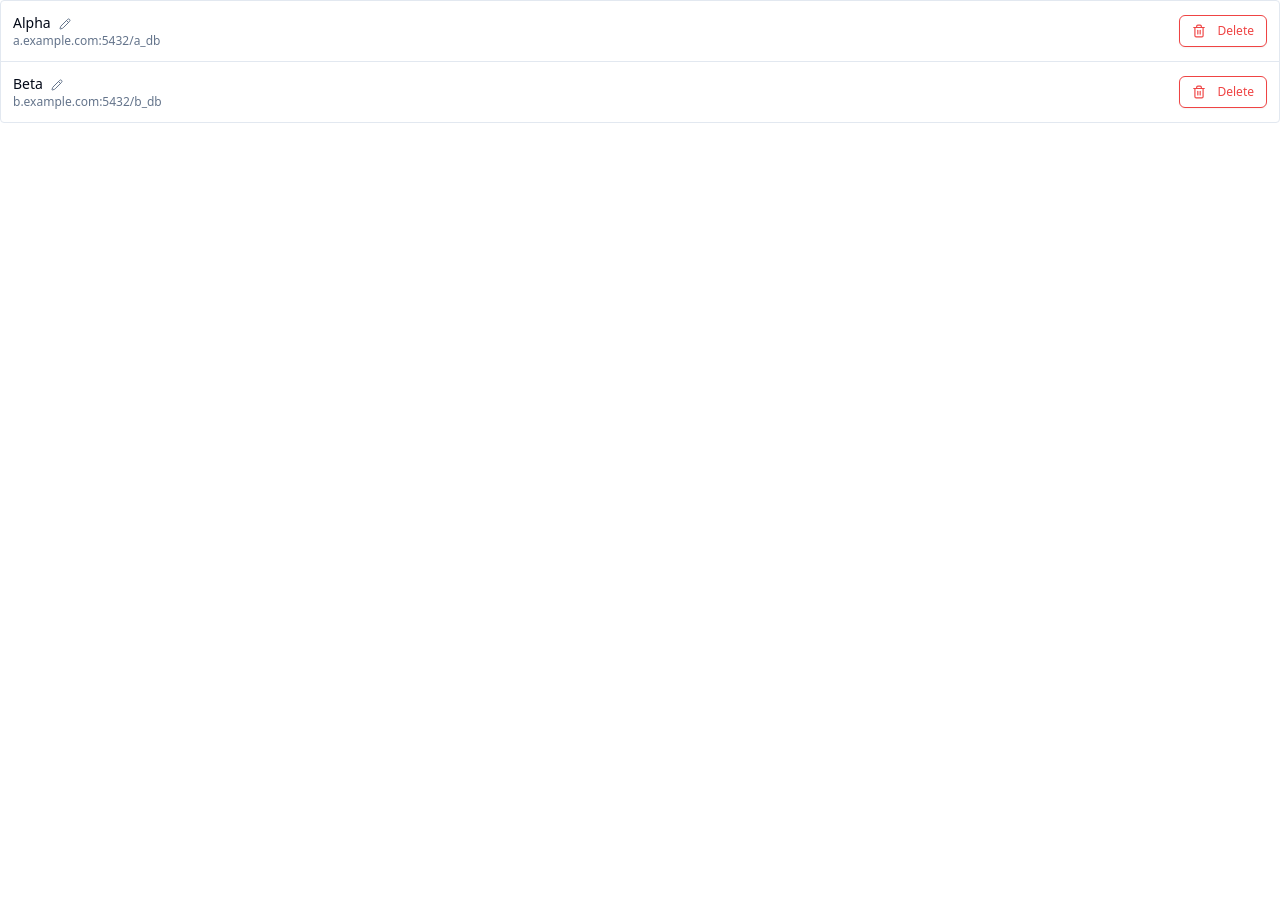
it: cancel from the dialog leaves the store unchanged and closes the dialog
Click the button with aria-label "delete profile alpha".
click(1223, 31)  # box [1178,15,1267,47]
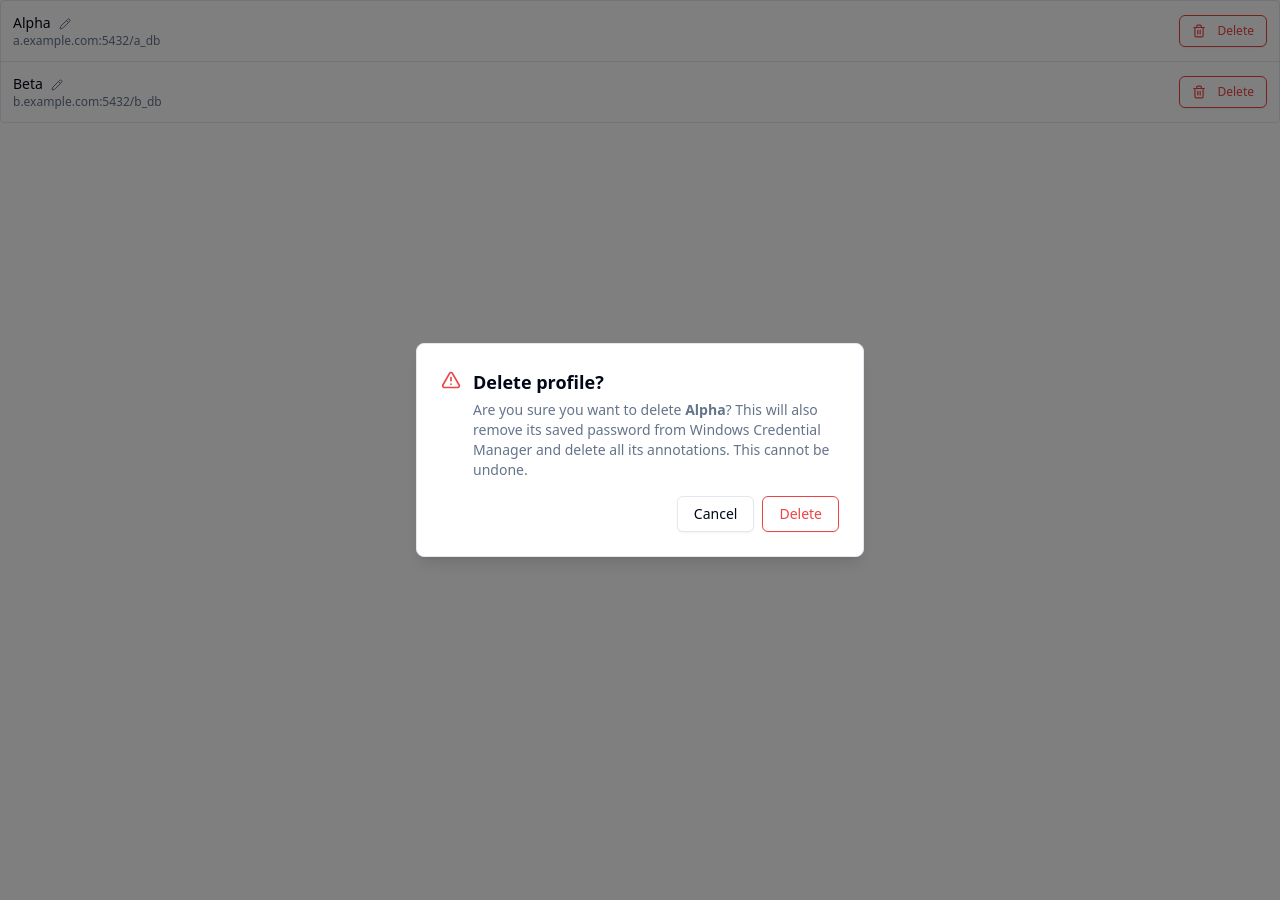
Expected: the dialog is shown
Click the button "Cancel".
click(716, 514)  # box [677,496,754,532]
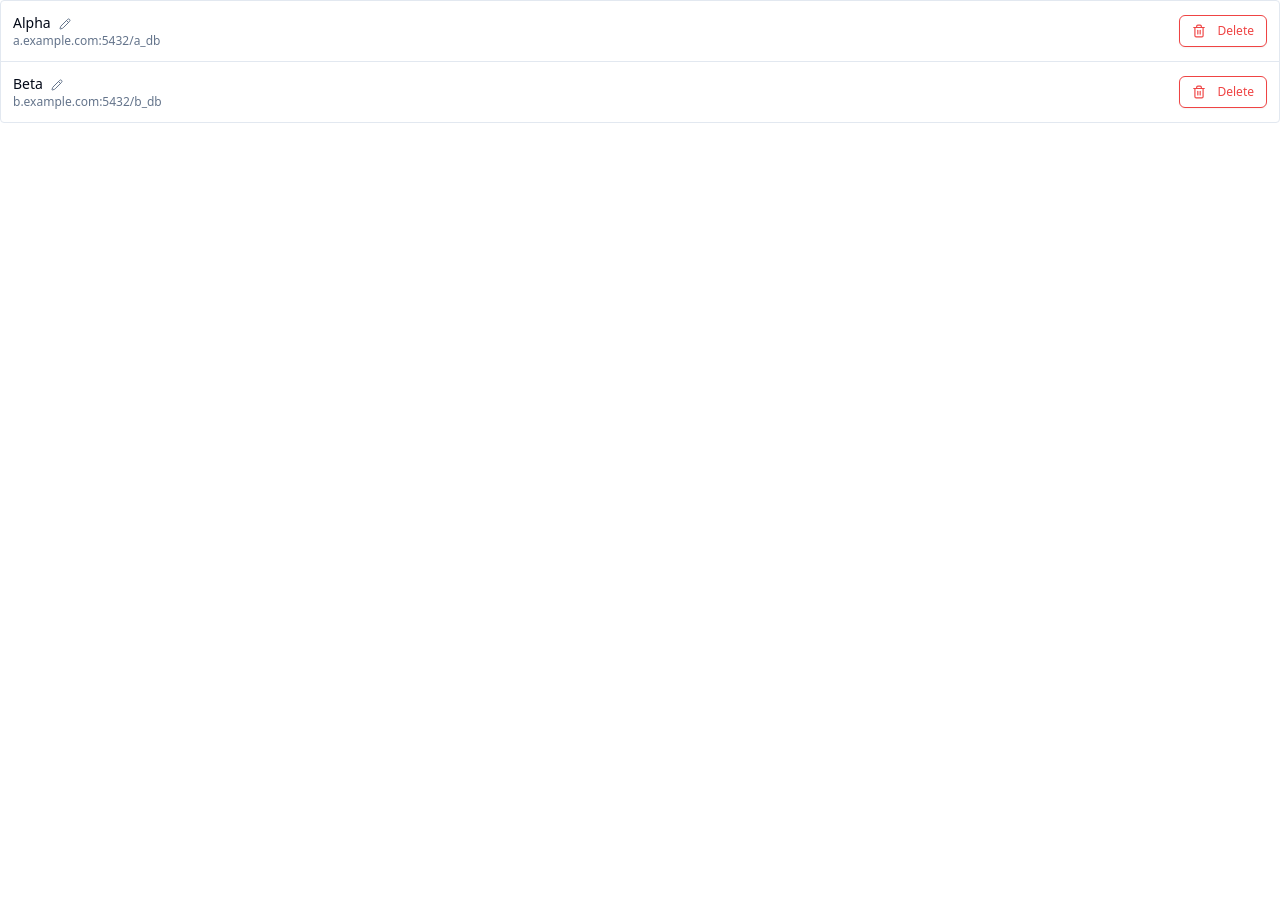
Expected: the dialog is gone
